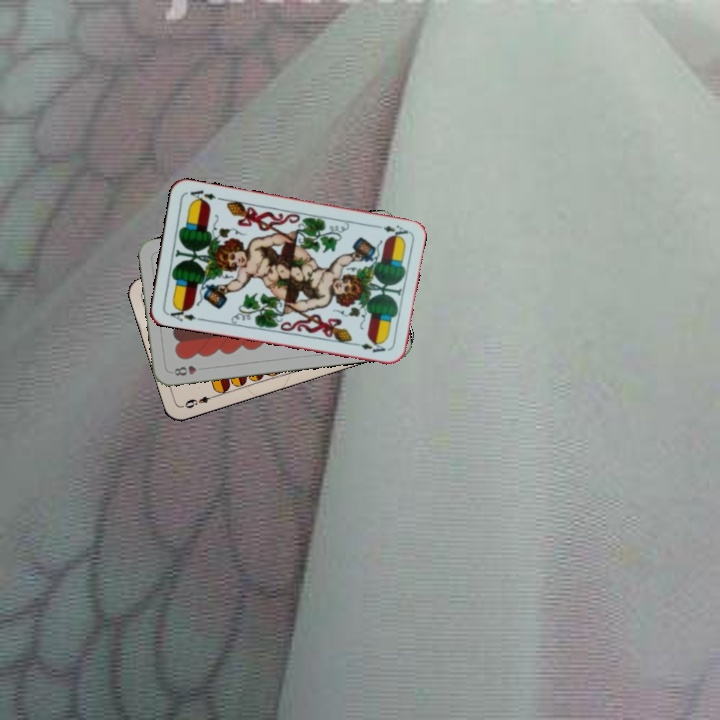E9: (179, 391, 218, 411)
EA: (370, 221, 411, 240), (164, 302, 198, 324)
H8: (170, 361, 199, 378)
